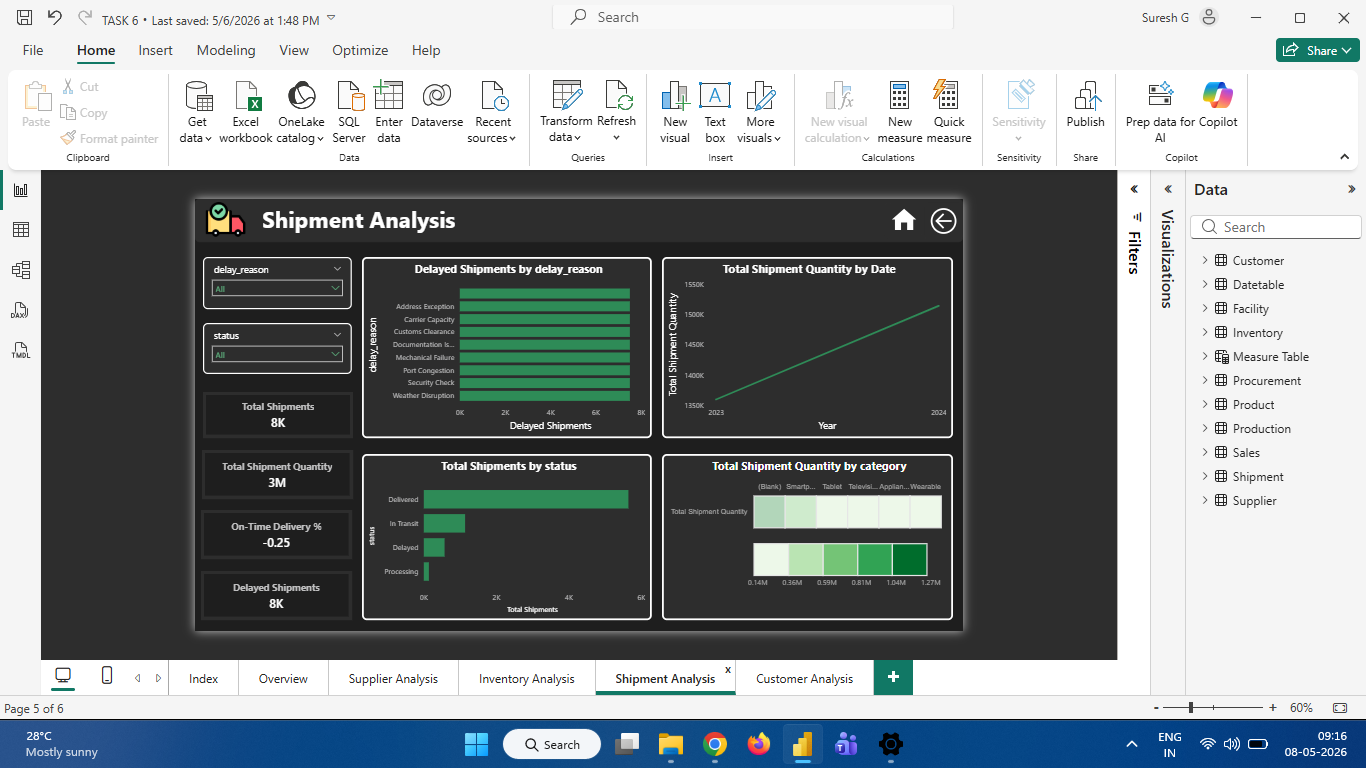

This screenshot's page, from the dashboard's own definition file:
{"tool":"powerbi","page":{"name":"Shipment Analysis","canvas":[1280,720],"ordinal":4},"visuals":[{"type":"textbox","box":[10,0,1270,71.7],"z":0},{"type":"cardVisual","fields":{"Data":["Measure Table.Total Shipments"]},"box":[13.3,321.7,250,76.7],"z":1},{"type":"cardVisual","fields":{"Data":["Measure Table.Total Shipment Quantity"]},"box":[11.7,418.3,251.7,81.7],"z":2},{"type":"cardVisual","fields":{"Data":["Measure Table.On-Time Delivery %"]},"box":[10,518.3,251.7,81.7],"z":3},{"type":"cardVisual","fields":{"Data":["Measure Table.Delayed Shipments"]},"box":[10,620,251.7,81.7],"z":4},{"type":"lineChart","title":"Total Shipment Quantity by Date","fields":{"Y":["Measure Table.Total Shipment Quantity"],"Category":["Datetable.date.Variation.Date Hierarchy.Year","Datetable.date.Variation.Date Hierarchy.Quarter","Datetable.date.Variation.Date Hierarchy.Month","Datetable.date.Variation.Date Hierarchy.Day"]},"box":[778.3,96.7,485,301.7],"z":5},{"type":"clusteredBarChart","fields":{"Y":["Measure Table.Total Shipments"],"Category":["Shipment.status"]},"box":[278.3,425,483.3,276.7],"z":6},{"type":"clusteredBarChart","fields":{"Category":["Shipment.delay_reason"],"Y":["Measure Table.Delayed Shipments"]},"box":[278.3,96.7,483.3,301.7],"z":7},{"type":"TableHeatMap1443716069308","fields":{"Y":["Measure Table.Total Shipment Quantity"],"Category":["Product.category"]},"box":[778.3,425,485,276.7],"z":8},{"type":"slicer","fields":{"Values":["Shipment.status"]},"box":[13.3,206.7,248.3,85],"z":9},{"type":"slicer","fields":{"Values":["Shipment.delay_reason"]},"box":[13.3,96.7,248.3,86.7],"z":10},{"type":"image","box":[0,0,85,71.7],"z":11},{"type":"actionButton","box":[1175,5,65,63.3],"z":12},{"type":"image","box":[1108.3,5,66.7,63.3],"z":13}]}

Visuals, with their boxes on the page's 1280x720 design canvas (x1, y1, x2, y2). These are canvas units, not pixel positions in the 1366x768 screenshot, which may show the page scaled, cropped or inside an application window:
textbox: detection(10, 0, 1280, 72)
cardVisual - Measure Table.Total Shipments: detection(13, 322, 263, 398)
cardVisual - Measure Table.Total Shipment Quantity: detection(12, 418, 263, 500)
cardVisual - Measure Table.On-Time Delivery %: detection(10, 518, 262, 600)
cardVisual - Measure Table.Delayed Shipments: detection(10, 620, 262, 702)
"Total Shipment Quantity by Date" lineChart: detection(778, 97, 1263, 398)
clusteredBarChart - Measure Table.Total Shipments x Shipment.status: detection(278, 425, 762, 702)
clusteredBarChart - Shipment.delay_reason x Measure Table.Delayed Shipments: detection(278, 97, 762, 398)
TableHeatMap1443716069308 - Measure Table.Total Shipment Quantity x Product.category: detection(778, 425, 1263, 702)
slicer - Shipment.status: detection(13, 207, 262, 292)
slicer - Shipment.delay_reason: detection(13, 97, 262, 183)
image: detection(0, 0, 85, 72)
actionButton: detection(1175, 5, 1240, 68)
image: detection(1108, 5, 1175, 68)
